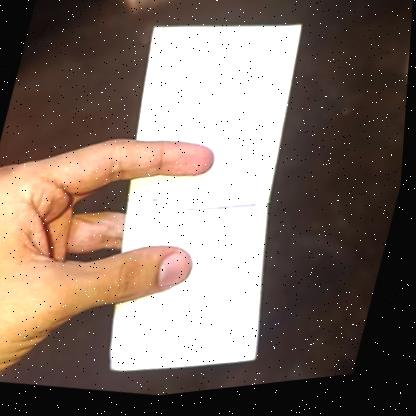one_hundred-back-vef: (73, 4, 340, 405)
